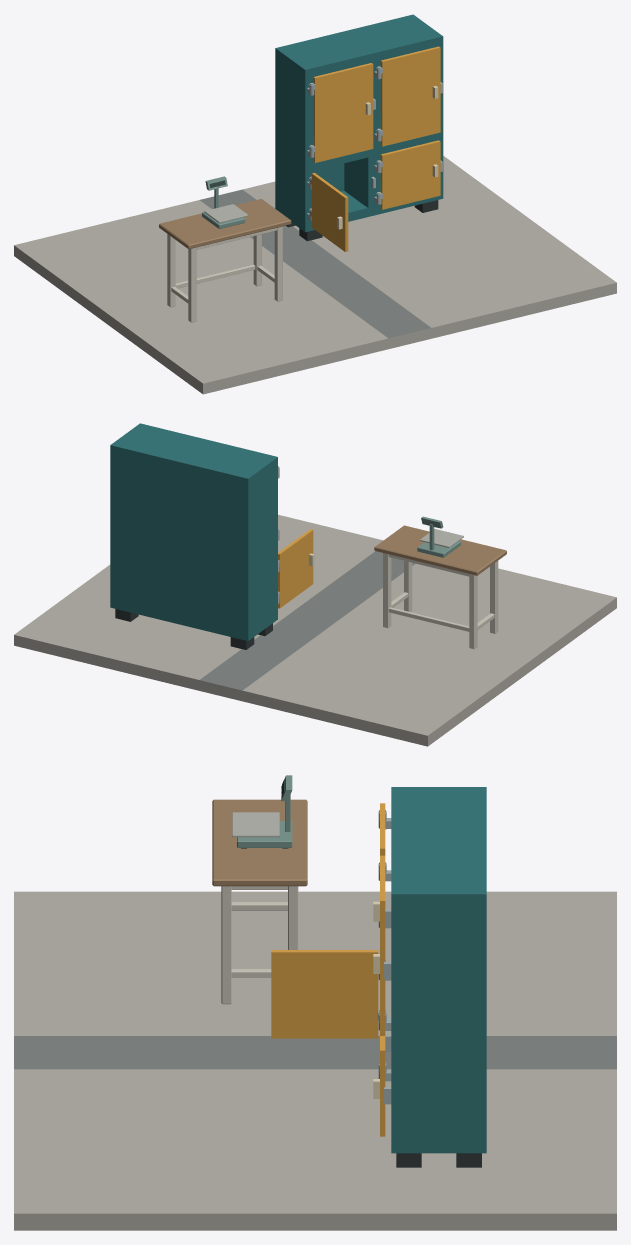
3 renders of one model, top to bottom at view 1: azimuth 30°, elevation 25°; view 2: azimuth 150°, elevation 25°; view 3: azimuth 270°, elevation 25°, orthographic. The views are drawn at different scales.
Parts seen in each view (by area): view 1: SCENE_ONLY__PostalSortingGround, locker__Cabinet_ThickIsolatedShell, locker__Door_LeftUpper, locker__Door_RightUpper, locker__Door_RightLower, table__Complete work surface, locker__Door_LeftLower, table__Worktable leg, table__Worktable leg.002, table__Worktable leg.001; view 2: SCENE_ONLY__PostalSortingGround, locker__Cabinet_ThickIsolatedShell, table__Complete work surface, locker__Door_LeftLower, table__Worktable leg.001, table__Worktable leg.003, table__Worktable leg, table__Rear lower brace, scale__Parcel weighing platform; view 3: SCENE_ONLY__PostalSortingGround, locker__Cabinet_ThickIsolatedShell, locker__Door_LeftLower, table__Complete work surface, table__Worktable leg.002, scale__Parcel weighing platform, locker__Door_RightUpper, scale__Scale base housing, table__Worktable leg.003.
Part boxes in pixels (bbox=[...]): SCENE_ONLY__PostalSortingGround: bbox=[14, 156, 616, 394]; locker__Cabinet_ThickIsolatedShell: bbox=[275, 14, 443, 232]; locker__Door_LeftUpper: bbox=[313, 63, 373, 162]; locker__Door_RightUpper: bbox=[380, 46, 440, 146]; locker__Door_RightLower: bbox=[380, 140, 440, 209]; table__Complete work surface: bbox=[159, 199, 291, 249]; locker__Door_LeftLower: bbox=[311, 172, 348, 251]; table__Worktable leg: bbox=[188, 247, 196, 322]; table__Worktable leg.002: bbox=[274, 226, 282, 301]; table__Worktable leg.001: bbox=[167, 234, 175, 307]; SCENE_ONLY__PostalSortingGround: bbox=[14, 514, 616, 746]; locker__Cabinet_ThickIsolatedShell: bbox=[110, 423, 277, 640]; table__Complete work surface: bbox=[374, 525, 506, 575]; locker__Door_LeftLower: bbox=[278, 529, 313, 608]; table__Worktable leg.001: bbox=[469, 574, 477, 649]; table__Worktable leg.003: bbox=[383, 553, 391, 628]; table__Worktable leg: bbox=[490, 561, 498, 633]; table__Rear lower brace: bbox=[388, 607, 469, 631]; scale__Parcel weighing platform: bbox=[420, 529, 463, 547]; SCENE_ONLY__PostalSortingGround: bbox=[14, 891, 616, 1230]; locker__Cabinet_ThickIsolatedShell: bbox=[391, 787, 486, 1153]; locker__Door_LeftLower: bbox=[271, 950, 378, 1038]; table__Complete work surface: bbox=[212, 799, 307, 886]; table__Worktable leg.002: bbox=[221, 886, 231, 1004]; scale__Parcel weighing platform: bbox=[232, 812, 279, 837]; locker__Door_RightUpper: bbox=[380, 855, 385, 1035]; scale__Scale base housing: bbox=[237, 821, 292, 847]; table__Worktable leg.003: bbox=[288, 886, 298, 949].
Bounding box in the file's own units: 4.8 × 2.04 × 3.8.
